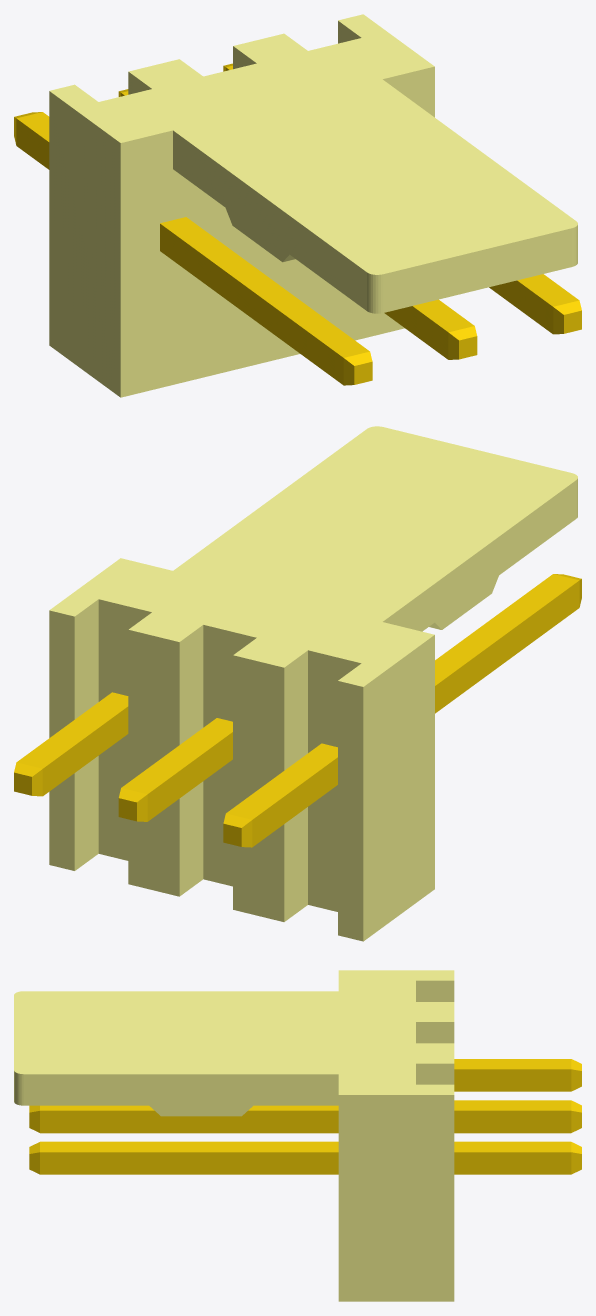
File: DS1070-3 (WF-3 CONNFLY).obj
3 renders of one model, top to bottom at view 1: azimuth 30°, elevation 25°; view 2: azimuth 150°, elevation 25°; view 3: azimuth 270°, elevation 25°, orthographic. The views are drawn at different scales.
Parts seen in each view (by area): view 1: DS1070-3_(WF-3_CONNFLY); view 2: DS1070-3_(WF-3_CONNFLY); view 3: DS1070-3_(WF-3_CONNFLY).
Boxes of the visible parts, left/top/right/bottom form: DS1070-3_(WF-3_CONNFLY): left=14, top=14, right=581, bottom=397; DS1070-3_(WF-3_CONNFLY): left=14, top=426, right=581, bottom=941; DS1070-3_(WF-3_CONNFLY): left=14, top=970, right=581, bottom=1301.
Size of the model in its own units: 0.00914 by 0.00708 by 0.0176.
